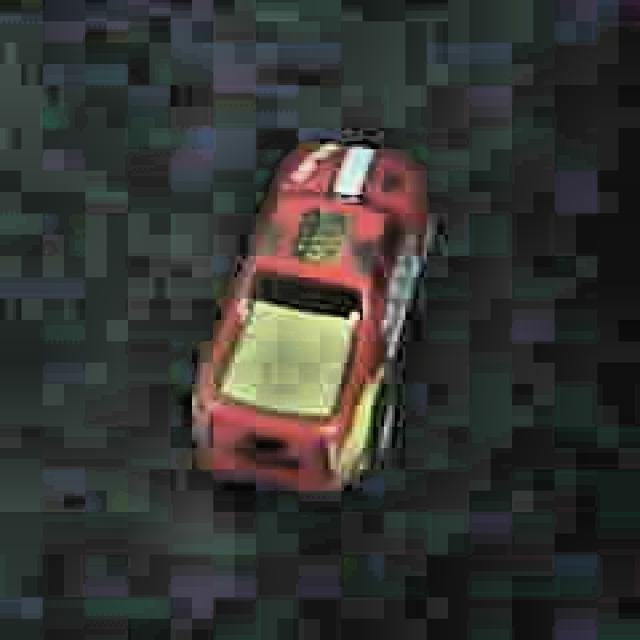car: (182, 135, 440, 510)
